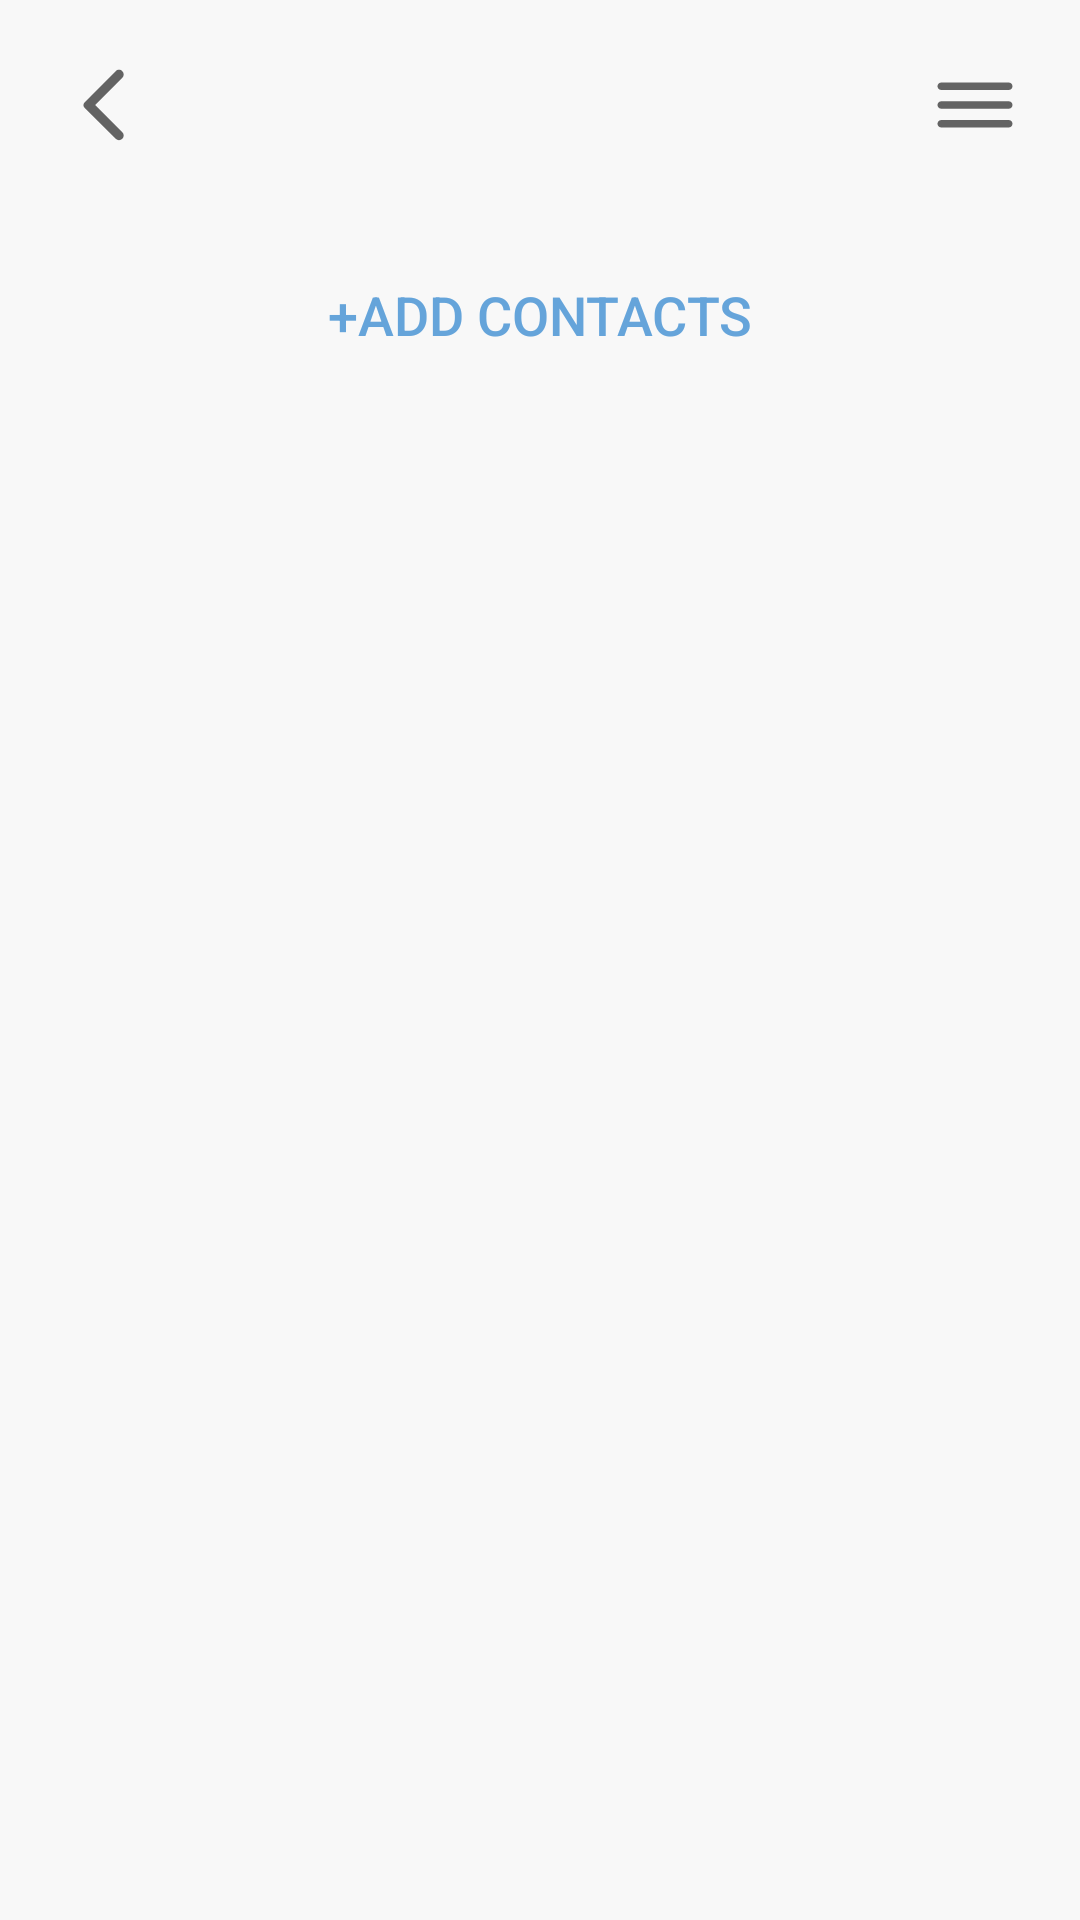

Point at icon controls on the screen. Image size 1080×1920, points as point (x, y).
back: point (103, 104)
hamberger: point (975, 105)
